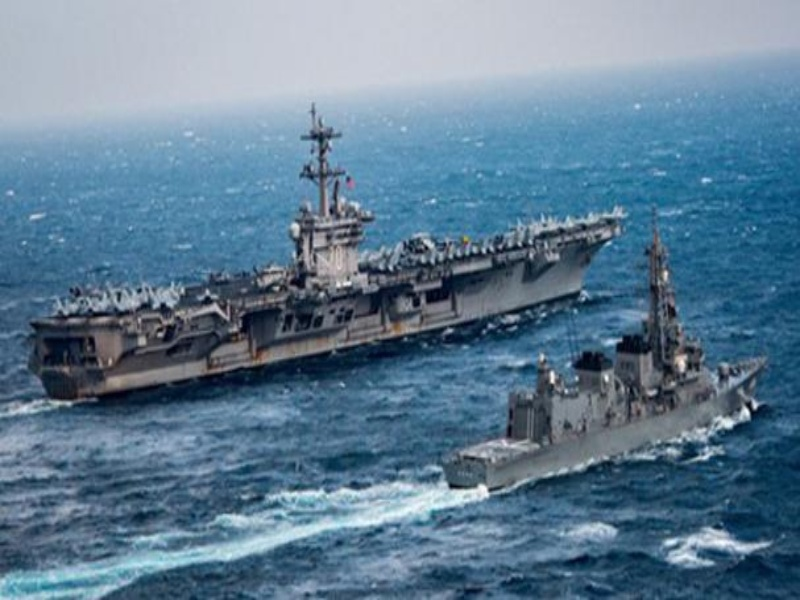carrier: (36, 129, 596, 368)
cruise: (451, 311, 771, 487)
